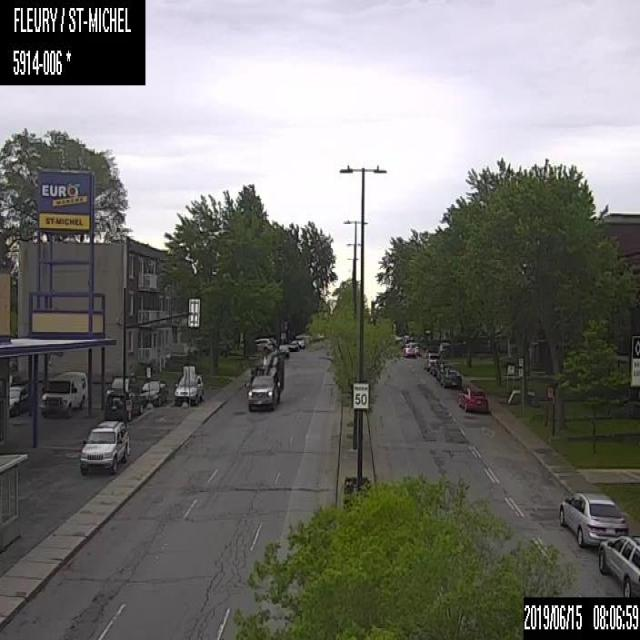vehicle: (558, 493, 630, 550), (76, 416, 132, 475), (596, 531, 639, 594), (39, 368, 88, 418), (245, 363, 282, 412), (104, 374, 146, 416), (174, 371, 203, 406), (455, 383, 488, 413), (7, 386, 30, 418), (141, 378, 167, 405), (438, 367, 463, 388), (252, 334, 273, 353), (423, 350, 442, 370), (402, 342, 415, 357), (277, 342, 289, 358), (287, 338, 299, 352)
